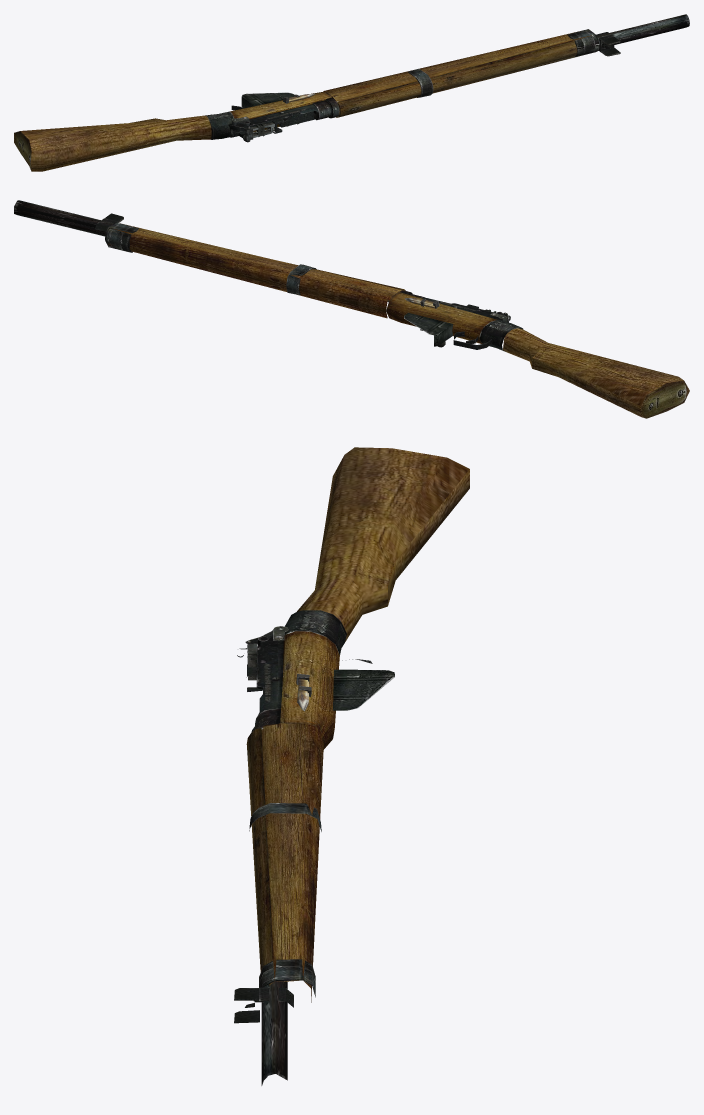
Rendered from viewmodel_enfield.glb.
The picture shows the model from 3 angles, top to bottom: view 1: azimuth 30°, elevation 25°; view 2: azimuth 150°, elevation 25°; view 3: azimuth 270°, elevation 25°; orthographic projection. The views are drawn at different scales.
Bounding box in the file's own units: 53.39 × 2.83 × 8.55.
Materials: 3 (3 with a texture image).
